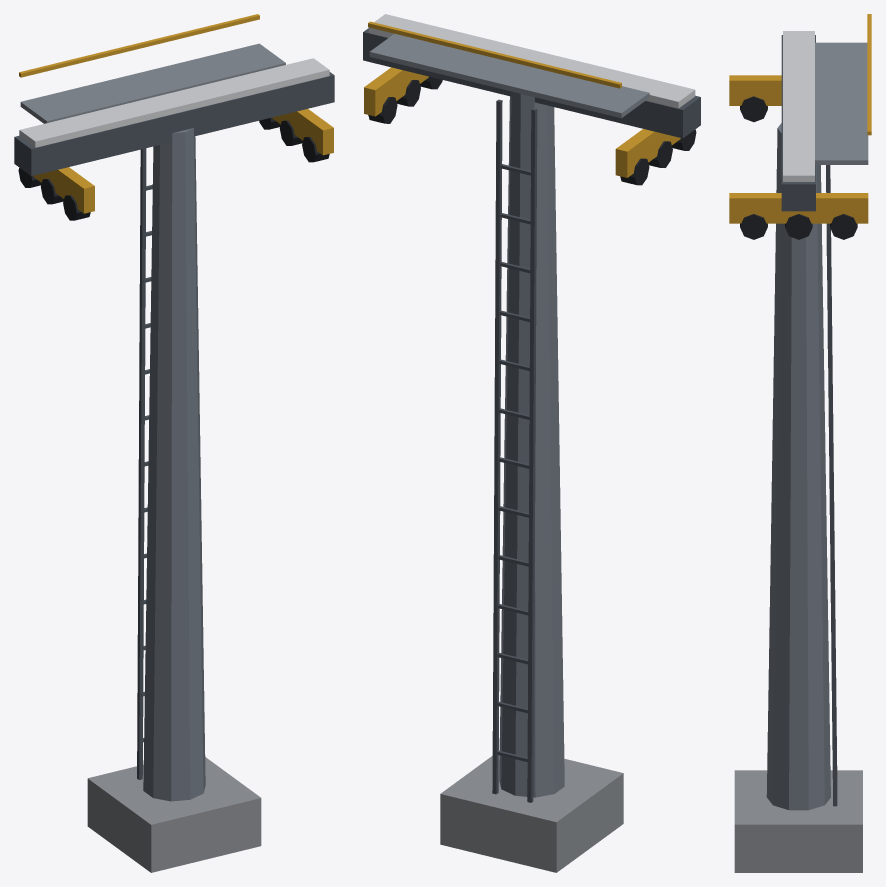
The model's file is lift-tower.glb.
The picture shows the model from 3 angles, left to right: view 1: azimuth 30°, elevation 25°; view 2: azimuth 150°, elevation 25°; view 3: azimuth 270°, elevation 25°; orthographic projection. The views are drawn at different scales.
Visible parts, largest first — view 1: lift-tower; view 2: lift-tower; view 3: lift-tower.
Boxes of the visible parts, box(x1,y1,x2,y2) form: lift-tower: box(14, 14, 334, 872); lift-tower: box(363, 14, 700, 872); lift-tower: box(729, 14, 871, 872).
Size of the model in its own units: 3.3 by 7.97 by 1.33.
